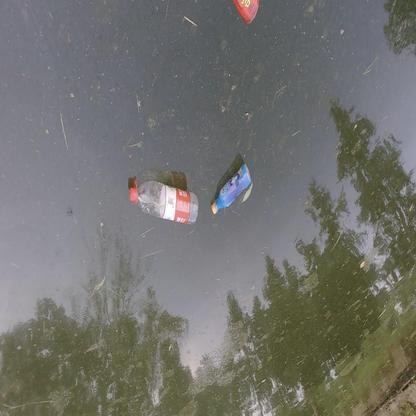plastic bottle: (128, 181, 198, 225), (211, 163, 252, 215), (232, 1, 260, 24)
